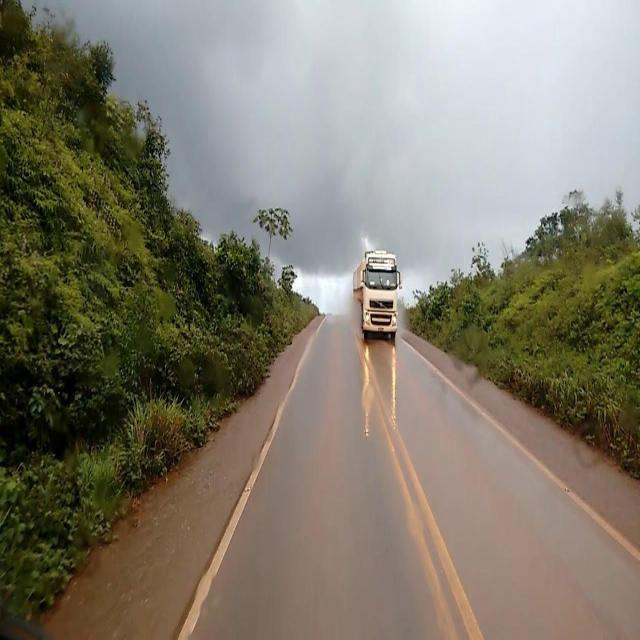Truck: (350, 248, 403, 347)
